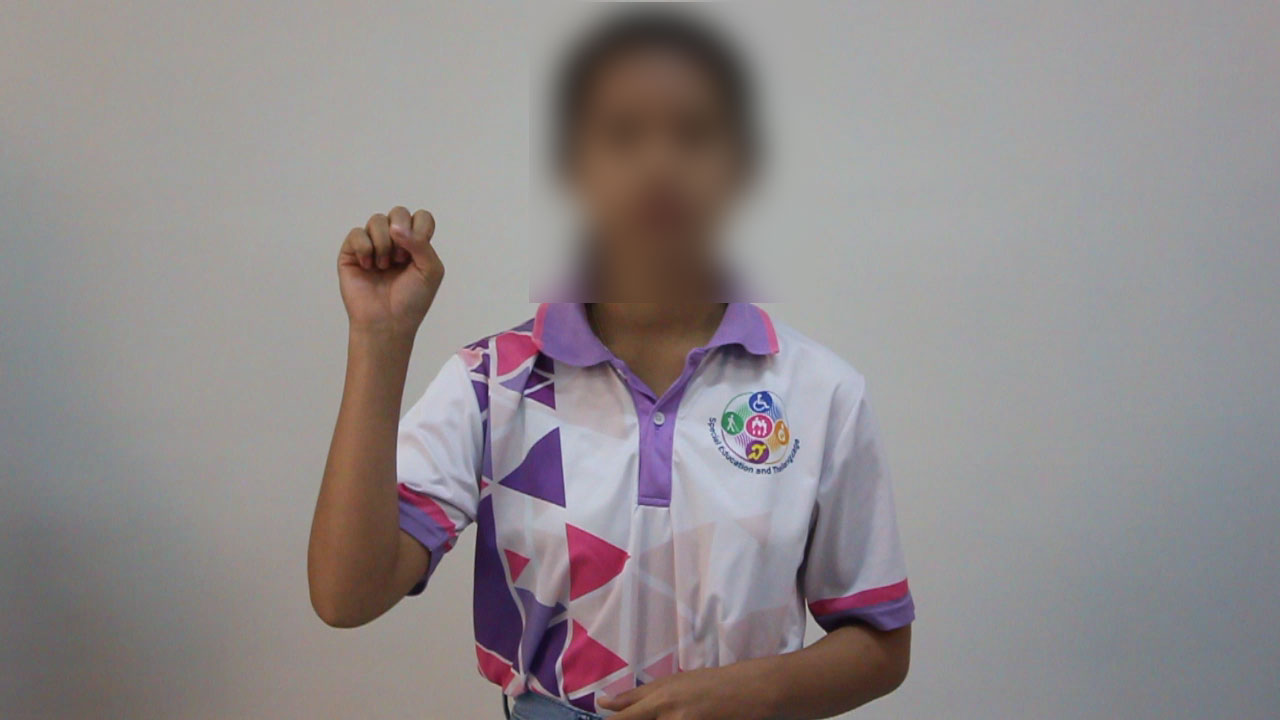sor: (317, 188, 454, 360)
